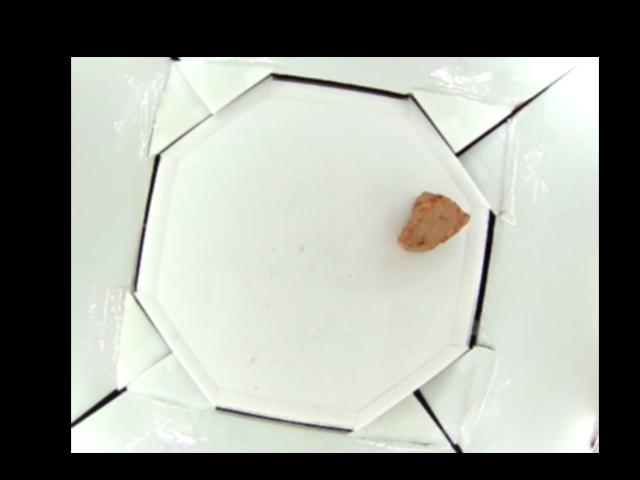Brisk: (396, 193, 470, 253)
